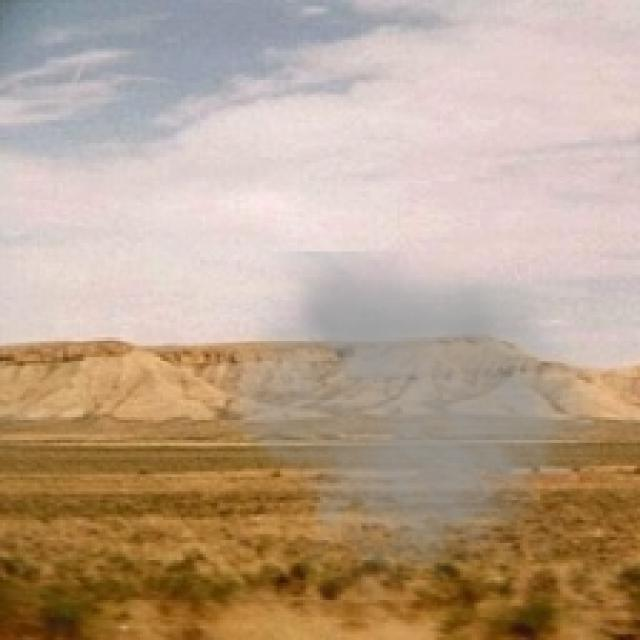smoke: (203, 252, 620, 608)
